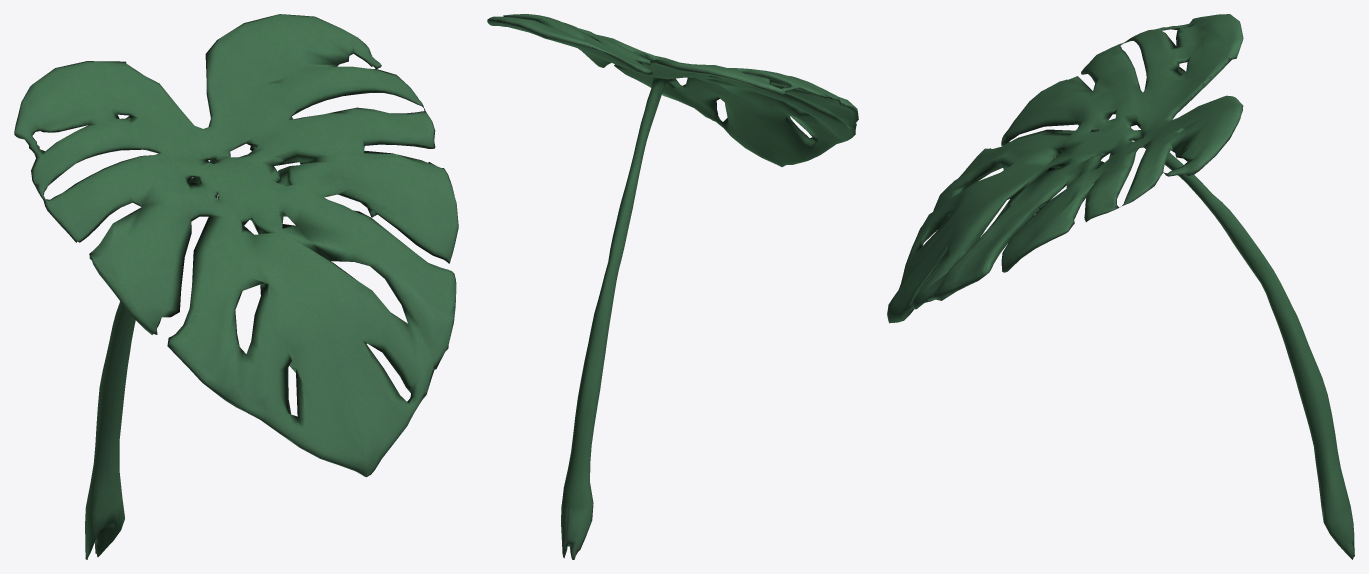
Rendered from mon_darkgreen_white.glb.
3 renders of one model, left to right at view 1: azimuth 30°, elevation 25°; view 2: azimuth 150°, elevation 25°; view 3: azimuth 270°, elevation 25°, orthographic. The views are drawn at different scales.
Size of the model in its own units: 1.42 by 2 by 1.72.
Materials: 1 (1 with a texture image).
